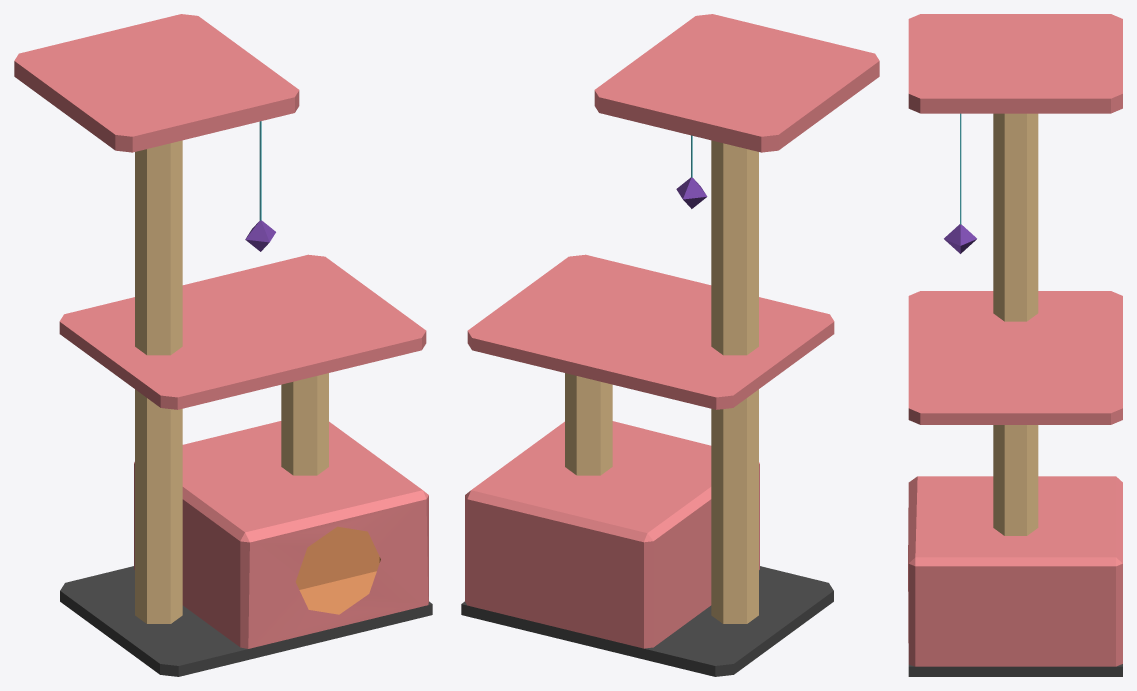
Rendered from RascadorGatos.fbx.
3 views of the same model, side by side, from view 1: azimuth 30°, elevation 25°; view 2: azimuth 150°, elevation 25°; view 3: azimuth 270°, elevation 25° (orthographic). The views are drawn at different scales.
Parts seen in each view (by area): view 1: RascadorGatos; view 2: RascadorGatos; view 3: RascadorGatos.
Part boxes in pixels (x1,y1,x2,y2): RascadorGatos: (14, 14, 432, 676); RascadorGatos: (461, 14, 879, 676); RascadorGatos: (908, 14, 1122, 676).
Size of the model in its own units: 48.91 by 82.87 by 31.03.
